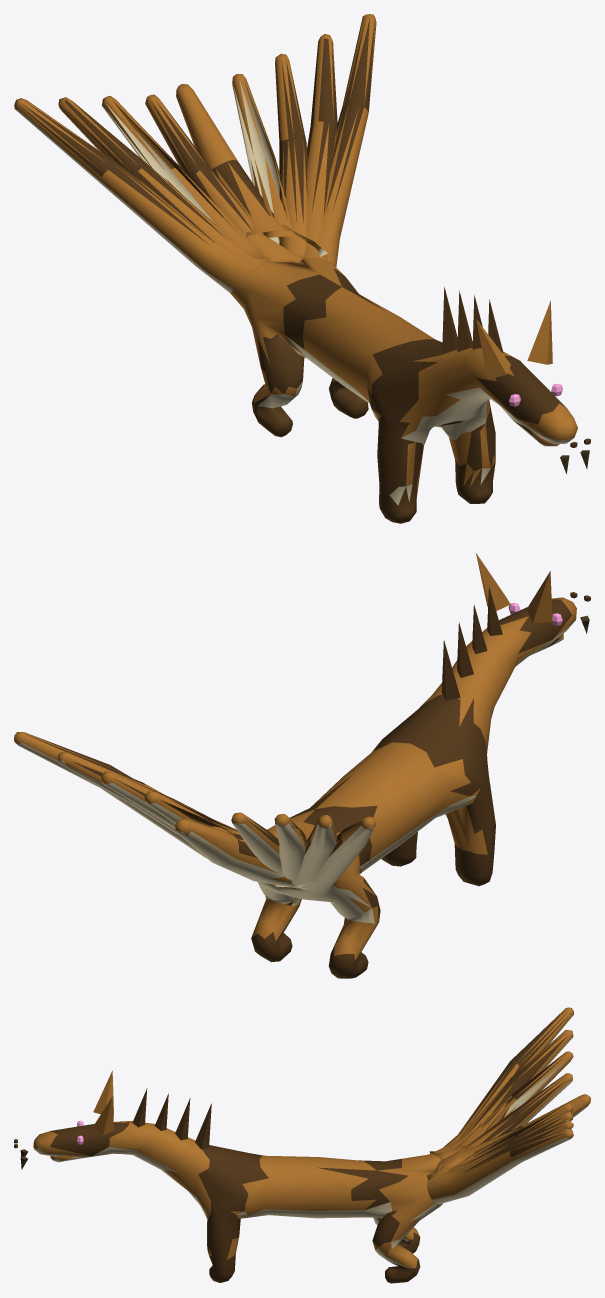
Rendered from pet_pt_gumiho.glb.
3 renders of one model, top to bottom at view 1: azimuth 30°, elevation 25°; view 2: azimuth 150°, elevation 25°; view 3: azimuth 270°, elevation 25°, orthographic. The views are drawn at different scales.
Parts seen in each view (by area): view 1: pet_pt_gumiho; view 2: pet_pt_gumiho; view 3: pet_pt_gumiho.
Boxes of the visible parts, x1=… form: pet_pt_gumiho: x1=14, y1=14, x2=590, y2=523; pet_pt_gumiho: x1=14, y1=553, x2=590, y2=978; pet_pt_gumiho: x1=14, y1=1007, x2=590, y2=1283.
Bounding box in the file's own units: 0.9479 × 0.7044 × 1.83.
Materials: 5 (5 with a texture image).
